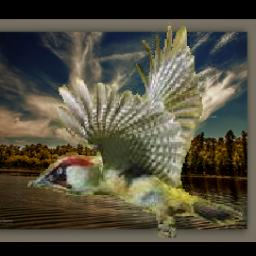Woodpecker: (24, 20, 243, 238)
